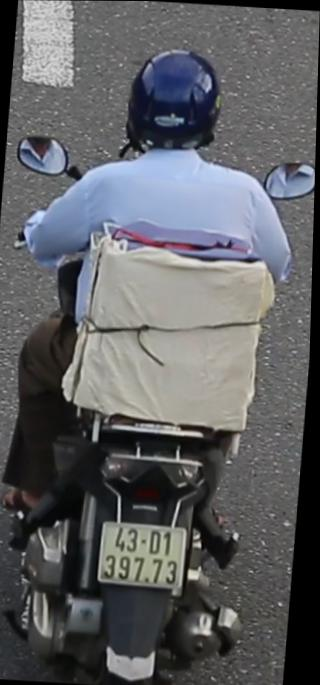LP: (97, 511, 197, 594)
helmet: (114, 35, 232, 174)
